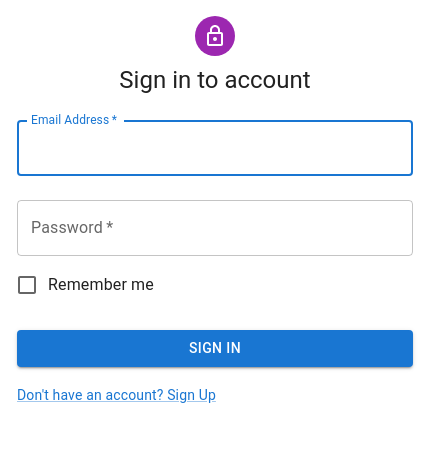
Scenario: SignInPage › should show validation errors
This screenshot has width=431, height=465.
Click the button "Sign In".
click(215, 348)  # box [17,330,413,366]
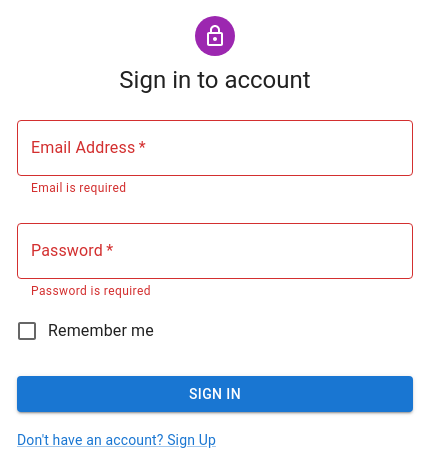
Check: the text "Email is required" is shown, box [31,181,126,195]
Check: the text "Password is required" is shown, box [31,284,151,298]
